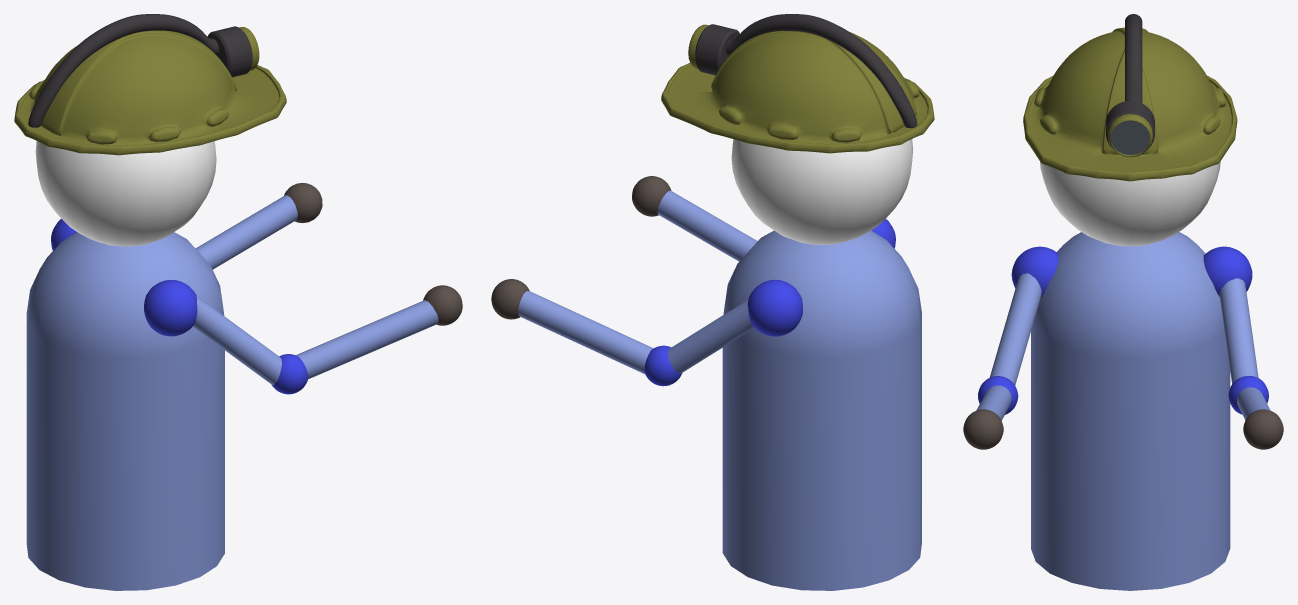
File: Miner.fbx
The picture shows the model from 3 angles, left to right: view 1: azimuth 30°, elevation 25°; view 2: azimuth 150°, elevation 25°; view 3: azimuth 270°, elevation 25°; orthographic projection.
Visible parts, largest first — view 1: pCylinder6, pSphere54, pSphere47, pCylinder8, pCylinder14, pCylinder10, pCylinder11, pSphere49, pCylinder12, pSphere51, pSphere53, pSphere50; view 2: pCylinder6, pSphere54, pSphere47, pCylinder10, pCylinder14, pCylinder8, pCylinder9, pSphere48, pCylinder12, pSphere51, pSphere53, pSphere52; view 3: pCylinder6, pSphere54, pSphere47, pCylinder11, pCylinder9, pCylinder12, pCylinder13, pSphere48, pCylinder14, pSphere49, pSphere53, pSphere51 (+4 smaller).
Part boxes in pixels (x1,y1,x2,y2): pCylinder6: (26, 232, 224, 590); pSphere54: (14, 30, 286, 155); pSphere47: (35, 141, 216, 246); pCylinder8: (296, 300, 438, 379); pCylinder14: (28, 14, 218, 127); pCylinder10: (195, 195, 297, 269); pCylinder11: (192, 296, 281, 385); pSphere49: (144, 280, 197, 336); pCylinder12: (207, 26, 252, 77); pSphere51: (423, 285, 462, 325); pSphere53: (284, 183, 322, 223); pSphere50: (272, 354, 308, 394); pCylinder6: (722, 230, 921, 590); pSphere54: (661, 31, 934, 153); pSphere47: (731, 139, 912, 244); pCylinder10: (518, 291, 653, 373); pCylinder14: (726, 14, 917, 128); pCylinder8: (657, 190, 757, 261); pCylinder9: (668, 300, 754, 373); pSphere48: (747, 279, 802, 336); pCylinder12: (695, 24, 739, 75); pSphere51: (632, 176, 671, 216); pSphere53: (491, 279, 529, 319); pSphere52: (644, 345, 682, 386); pCylinder6: (1031, 232, 1230, 590); pSphere54: (1023, 27, 1237, 181); pSphere47: (1040, 161, 1220, 246); pCylinder11: (989, 273, 1041, 384); pCylinder9: (1219, 278, 1258, 383); pCylinder12: (1106, 101, 1154, 154); pCylinder13: (1108, 114, 1152, 157); pSphere48: (1203, 246, 1252, 296); pCylinder14: (1125, 14, 1142, 103); pSphere49: (1011, 246, 1058, 297); pSphere53: (1243, 409, 1283, 449); pSphere51: (963, 409, 1003, 449).
Size of the model in its own units: 4.86 by 6.8 by 3.73.
